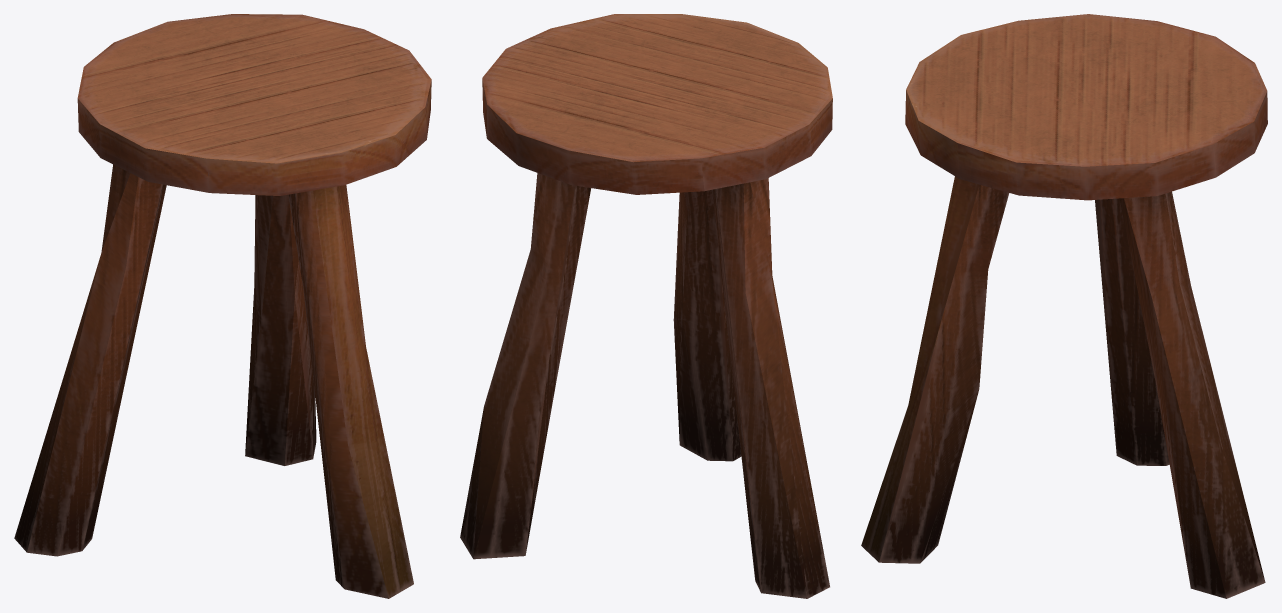
The model's file is D3D_Stool.fbx.
The picture shows the model from 3 angles, left to right: view 1: azimuth 30°, elevation 25°; view 2: azimuth 150°, elevation 25°; view 3: azimuth 270°, elevation 25°; orthographic projection. The views are drawn at different scales.
Visible parts, largest first — view 1: stool; view 2: stool; view 3: stool.
Boxes of the visible parts, x1,y1,x2,y2 form: stool: (14, 14, 431, 598); stool: (460, 14, 832, 598); stool: (861, 14, 1267, 598).
Size of the model in its own units: 34.68 by 40.74 by 33.77.
1 material, 1 textured.
